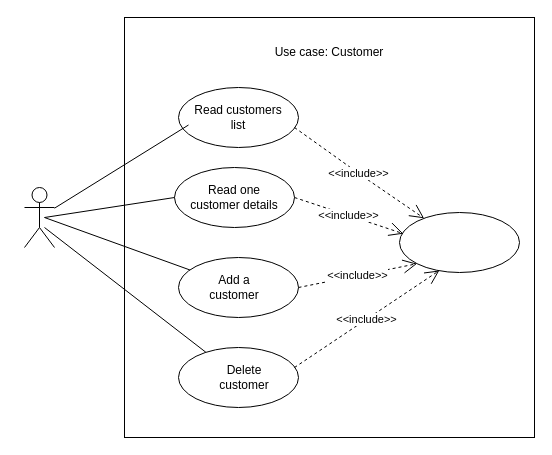
The diagram is 552 pixels wide and 455 high, and some of its shapes have lost their labels. Each missing label, with the centre of its shape:
"Autheticated" goes at (459,242).
"Reseller" goes at (39,217).
